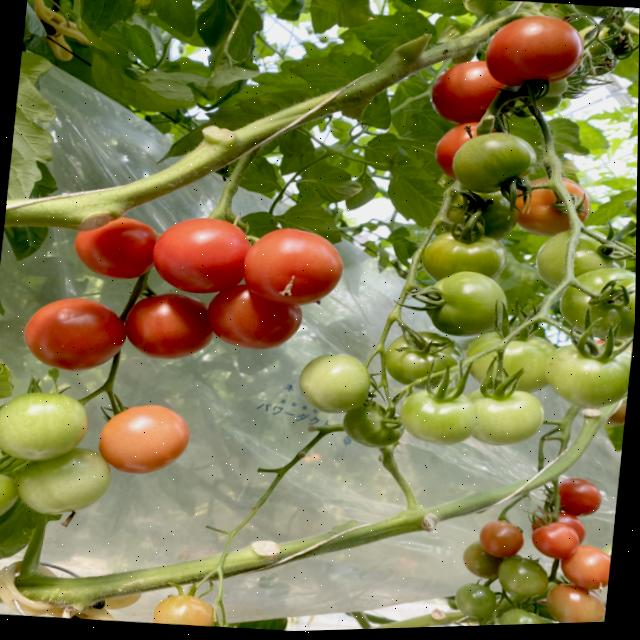ripe0: (0, 389, 91, 461), (542, 340, 632, 408), (423, 270, 510, 338), (449, 129, 537, 196), (560, 265, 636, 339), (295, 350, 372, 414), (399, 387, 480, 446), (386, 328, 454, 383)
ripe2: (238, 226, 346, 309), (20, 294, 129, 375), (147, 214, 247, 295), (484, 13, 586, 88), (97, 401, 193, 478), (428, 59, 502, 125)
